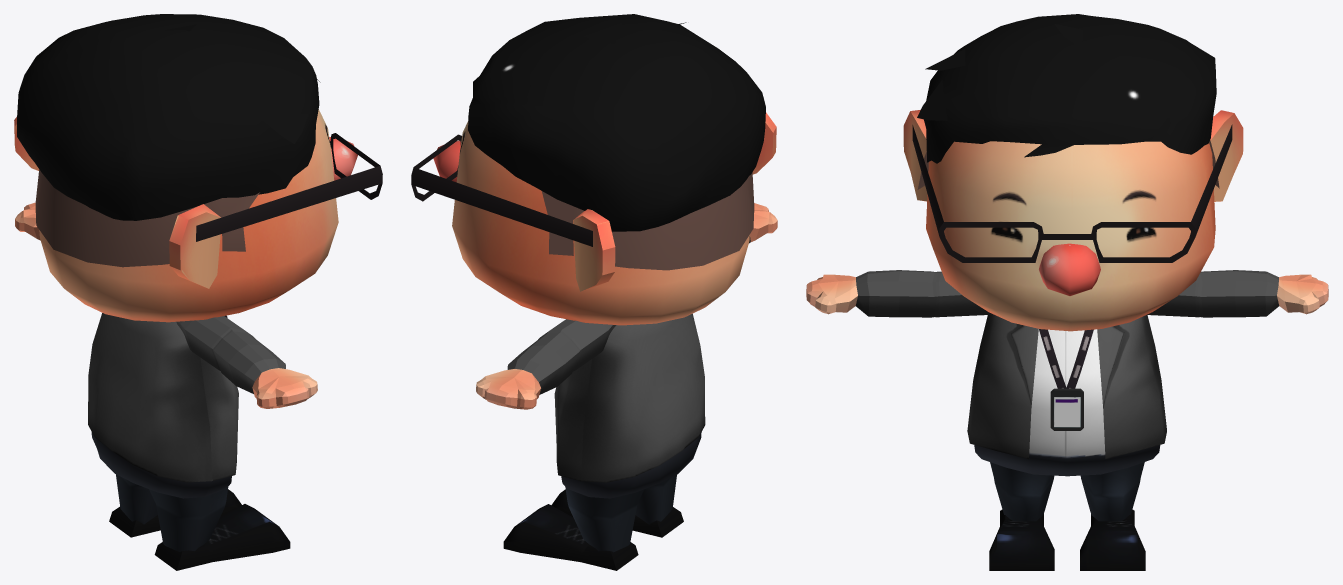
File: Char_Sci_Tech_06.fbx
The picture shows the model from 3 angles, left to right: view 1: azimuth 30°, elevation 25°; view 2: azimuth 150°, elevation 25°; view 3: azimuth 270°, elevation 25°; orthographic projection.
Parts seen in each view (by area): view 1: Hair_DOT, Jacket_DOT, Head_DOT, Hair_Siber_DOT, R_Leg_DOT, R_Hand_DOT, Spectacle_DOT, R_Ear_DOT, L_Leg_DOT, Body_DOT, Nose_DOT, L_Hand_DOT; view 2: Hair_DOT, Head_DOT, Jacket_DOT, Hair_Siber_DOT, L_Leg_DOT, L_Hand_DOT, Spectacle_DOT, L_Ear_DOT, R_Leg_DOT, Body_DOT, Nose_DOT, R_Hand_DOT (+1 smaller); view 3: Head_DOT, Hair_DOT, Jacket_DOT, Body_DOT, R_Hand_DOT, L_Hand_DOT, R_Leg_DOT, L_Leg_DOT, Spectacle_DOT, Nose_DOT, L_Ear_DOT, Nametag_DOT (+2 smaller).
Part boxes in pixels (<box>): Hair_DOT: <box>17,14,320,220</box>; Jacket_DOT: <box>88,313,238,482</box>; Head_DOT: <box>39,109,338,322</box>; Hair_Siber_DOT: <box>35,169,259,267</box>; R_Leg_DOT: <box>149,487,290,570</box>; R_Hand_DOT: <box>176,316,317,408</box>; Spectacle_DOT: <box>196,133,382,241</box>; R_Ear_DOT: <box>169,204,220,288</box>; L_Leg_DOT: <box>109,474,241,537</box>; Body_DOT: <box>91,432,231,498</box>; Nose_DOT: <box>329,137,357,180</box>; L_Hand_DOT: <box>15,202,40,240</box>; Hair_DOT: <box>468,14,765,231</box>; Head_DOT: <box>452,121,749,325</box>; Jacket_DOT: <box>554,313,705,482</box>; Hair_Siber_DOT: <box>542,172,754,270</box>; L_Leg_DOT: <box>503,487,644,570</box>; L_Hand_DOT: <box>476,319,615,409</box>; Spectacle_DOT: <box>411,134,592,246</box>; L_Ear_DOT: <box>573,209,615,291</box>; R_Leg_DOT: <box>551,475,683,537</box>; Body_DOT: <box>561,432,701,498</box>; Nose_DOT: <box>433,140,460,182</box>; R_Hand_DOT: <box>749,203,777,243</box>; Head_DOT: <box>926,141,1215,331</box>; Hair_DOT: <box>917,14,1216,163</box>; Jacket_DOT: <box>967,314,1166,458</box>; Body_DOT: <box>974,329,1160,476</box>; R_Hand_DOT: <box>806,270,992,317</box>; L_Hand_DOT: <box>1147,270,1328,317</box>; R_Leg_DOT: <box>989,462,1054,570</box>; L_Leg_DOT: <box>1080,462,1145,570</box>; Spectacle_DOT: <box>912,124,1232,262</box>; Nose_DOT: <box>1039,243,1100,295</box>; L_Ear_DOT: <box>1210,110,1243,201</box>; Nametag_DOT: <box>1050,388,1083,430</box>.
Bounding box in the file's own units: 4.61 × 7.37 × 6.83.
